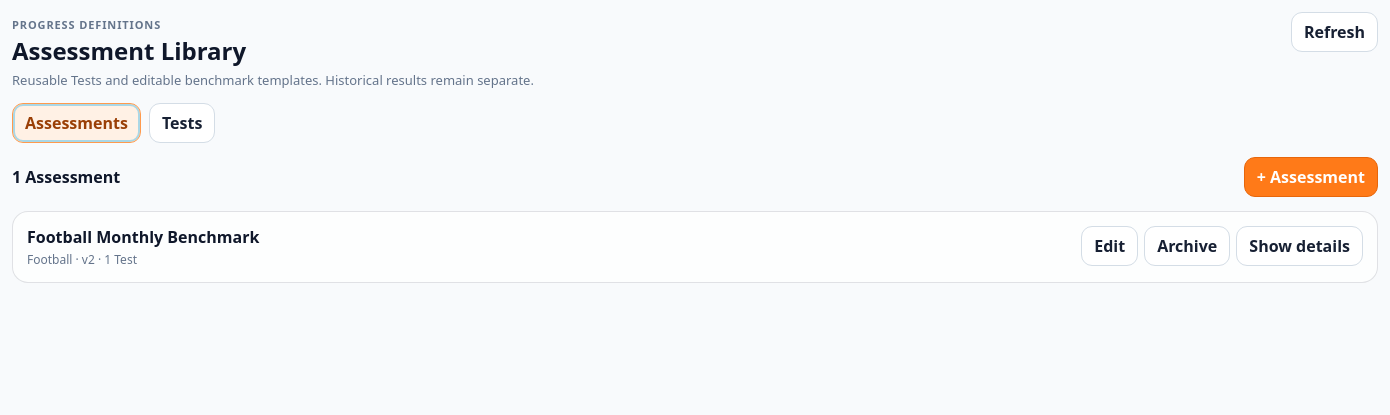
Test case: AssessmentTemplateLibrary › blocks archiving a canonical Test that is used by an active Assessment
Check: the text "Football Monthly Benchmark" is shown, box x1=27 y1=226 x2=259 y2=248
Click the button "Tests". click: (182, 123)
box: x1=149 y1=103 x2=215 y2=143
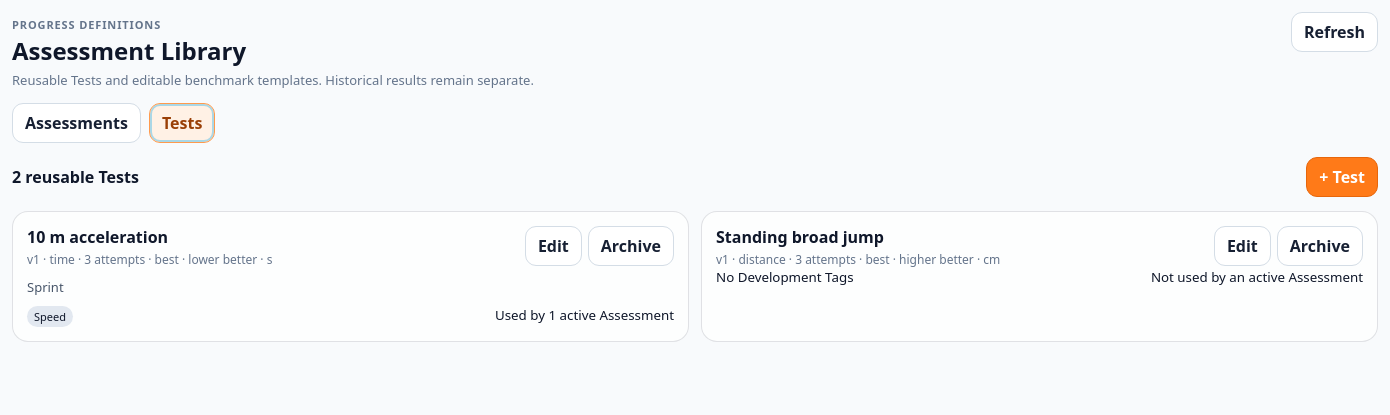
Click the button "Archive" in the row of "10 m acceleration". click: (631, 246)
box: x1=588 y1=226 x2=674 y2=266
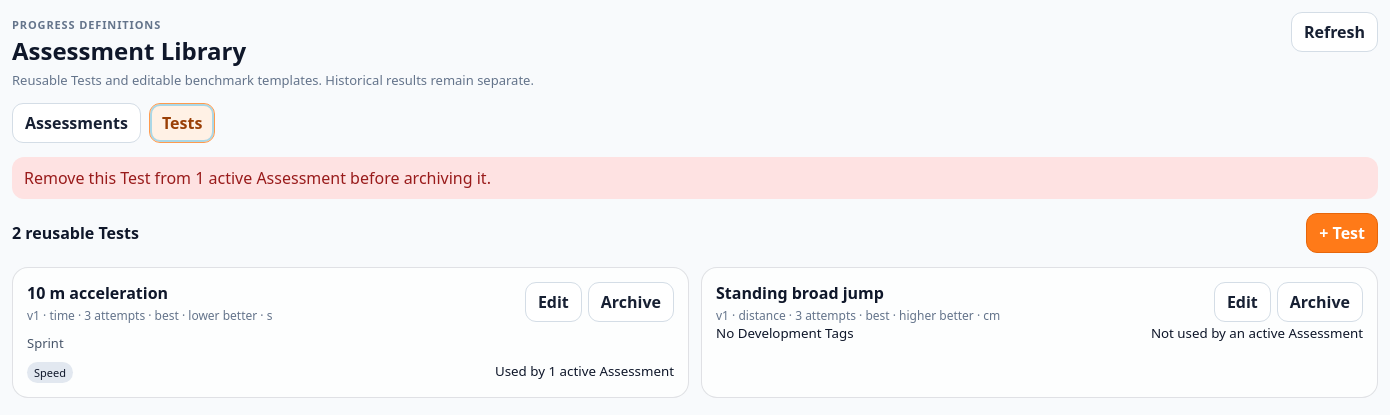
Check: the message shows "Remove this Test from 1 active Assessment", box x1=24 y1=167 x2=491 y2=189
